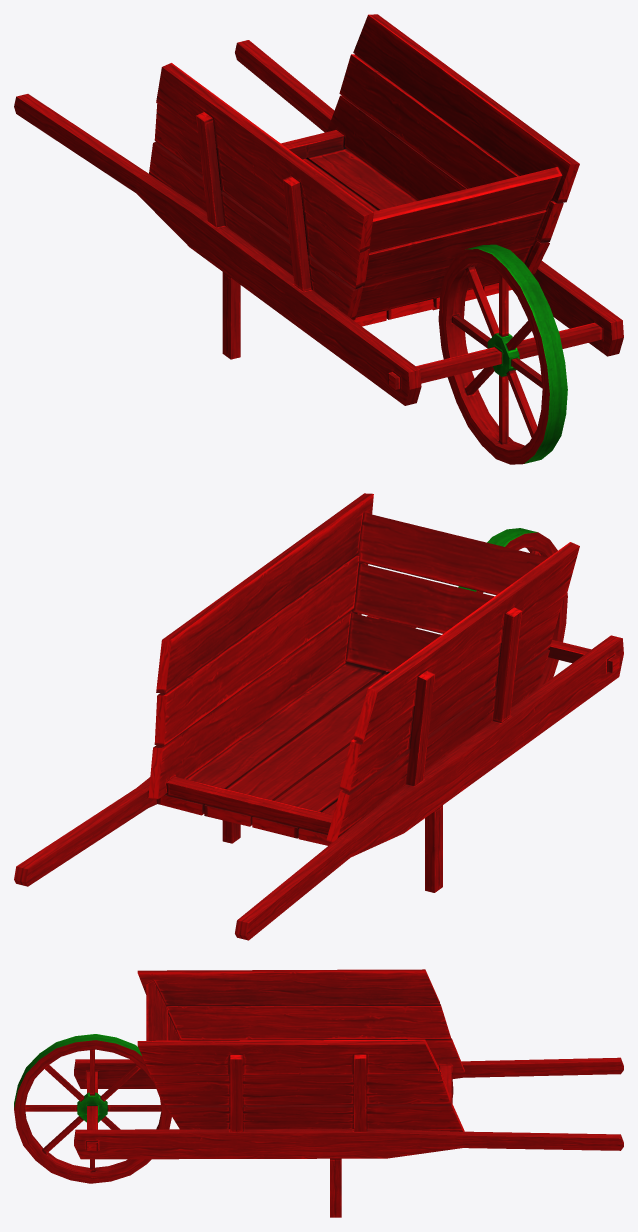
File: Wheelbarrow01.fbx
3 views of the same model, one above another, from view 1: azimuth 30°, elevation 25°; view 2: azimuth 150°, elevation 25°; view 3: azimuth 270°, elevation 25° (orthographic). The views are drawn at different scales.
Parts seen in each view (by area): view 1: Wheelbarrow01_LOD0, Wheel01_LOD0; view 2: Wheelbarrow01_LOD0, Wheel01_LOD0; view 3: Wheelbarrow01_LOD0, Wheel01_LOD0.
Part boxes in pixels (x1=…): Wheelbarrow01_LOD0: x1=14, y1=14, x2=623, y2=405; Wheel01_LOD0: x1=388, y1=244, x2=602, y2=464; Wheelbarrow01_LOD0: x1=14, y1=493, x2=623, y2=940; Wheel01_LOD0: x1=458, y1=528, x2=619, y2=688; Wheelbarrow01_LOD0: x1=74, y1=969, x2=623, y2=1217; Wheel01_LOD0: x1=14, y1=1034, x2=171, y2=1183.
Size of what is drawn, in the model's own units: 0.5249 by 0.5304 by 1.68.
